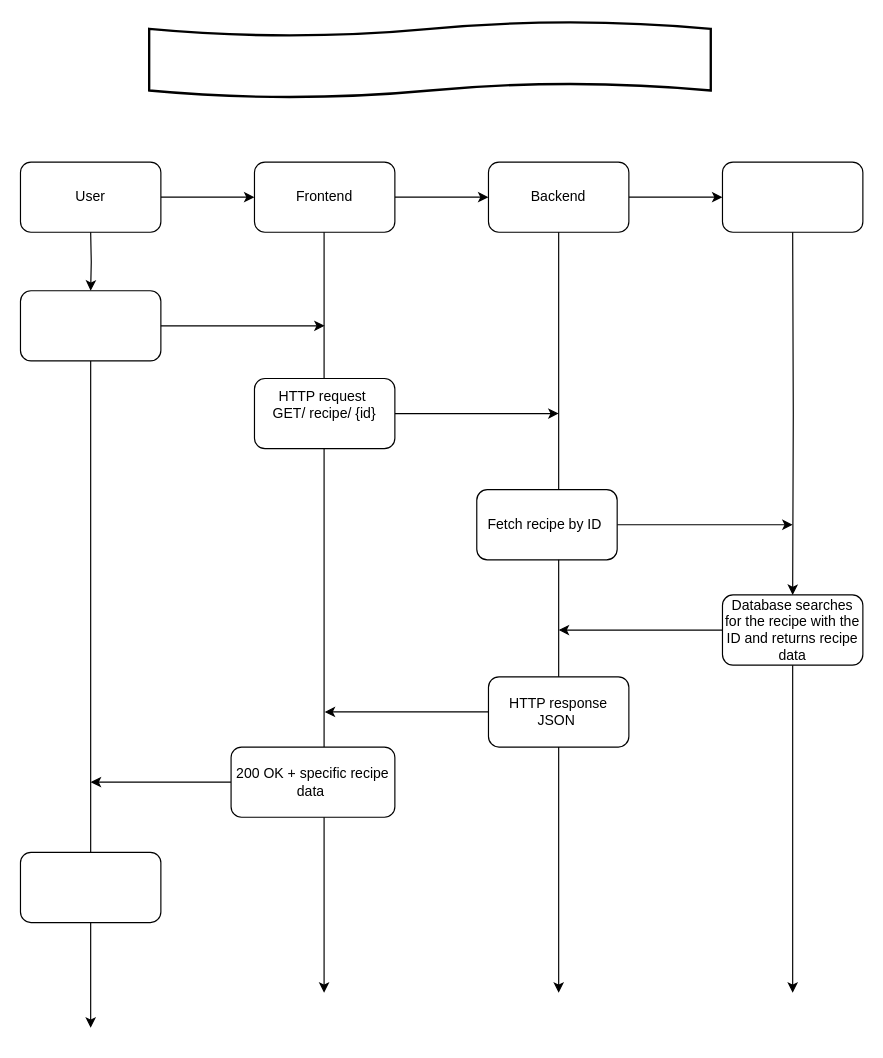
The diagram is 883 pixels wide and 1058 high, and some of its shapes have lost their labels. The shapes that lost their labels are listed below. From the top down, each one's centre as x and y in pixels, then its label:
pixel 429 59: Sequence Diagram — Viewing a specific Recipe
pixel 792 196: Database
pixel 90 325: Clicks "View Recipe"
pixel 90 887: Show specific recipe details
